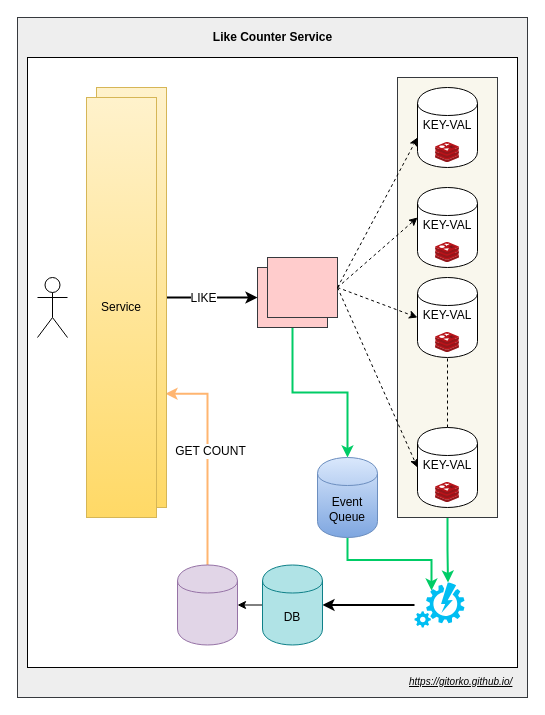
Image size: 545x715. Some labels were removed from this diagram. The shapes that lost their labels are listed below. From the top down, each one's centre as x and y in pixels, then its label:
At point (52, 307): "User".
At point (302, 287): "Round Robin Count Disperser".
At point (207, 604): "Cache".
At point (439, 604): "Count Aggregator Service".
